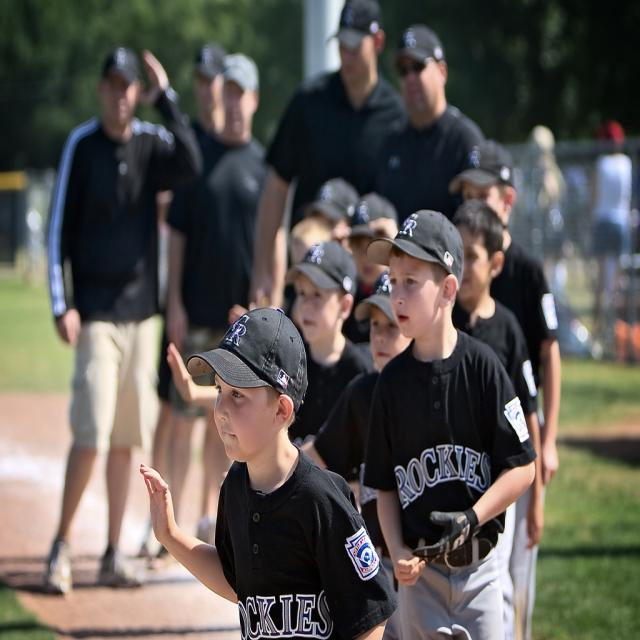Hat: (183, 310, 309, 422), (366, 205, 464, 296), (285, 237, 361, 295), (447, 138, 512, 195), (304, 177, 360, 230), (324, 0, 381, 50), (390, 20, 446, 65), (364, 266, 396, 325), (217, 48, 259, 89), (100, 46, 143, 85), (190, 40, 224, 84), (356, 190, 396, 227), (594, 118, 624, 146)
